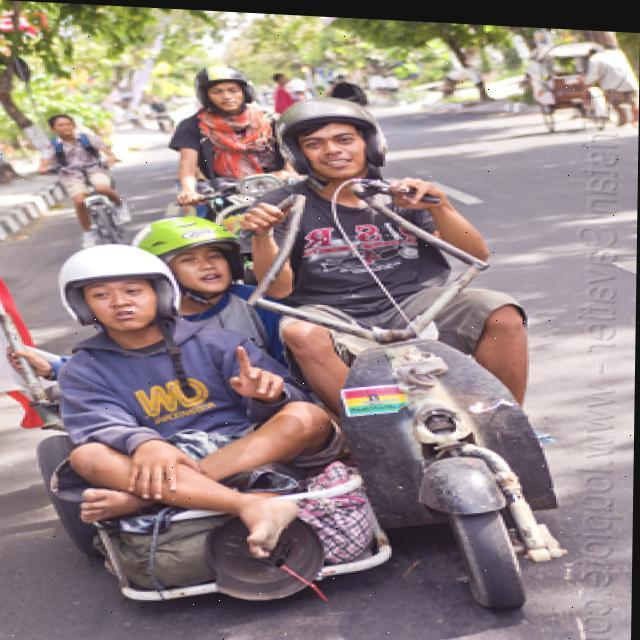Helmet: (274, 81, 388, 188)
